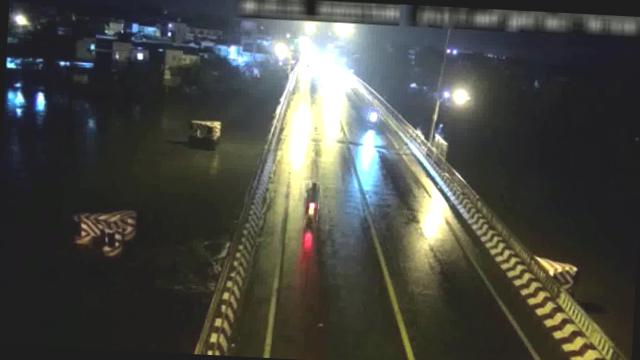Bike: (300, 181, 320, 220), (367, 107, 380, 126)
